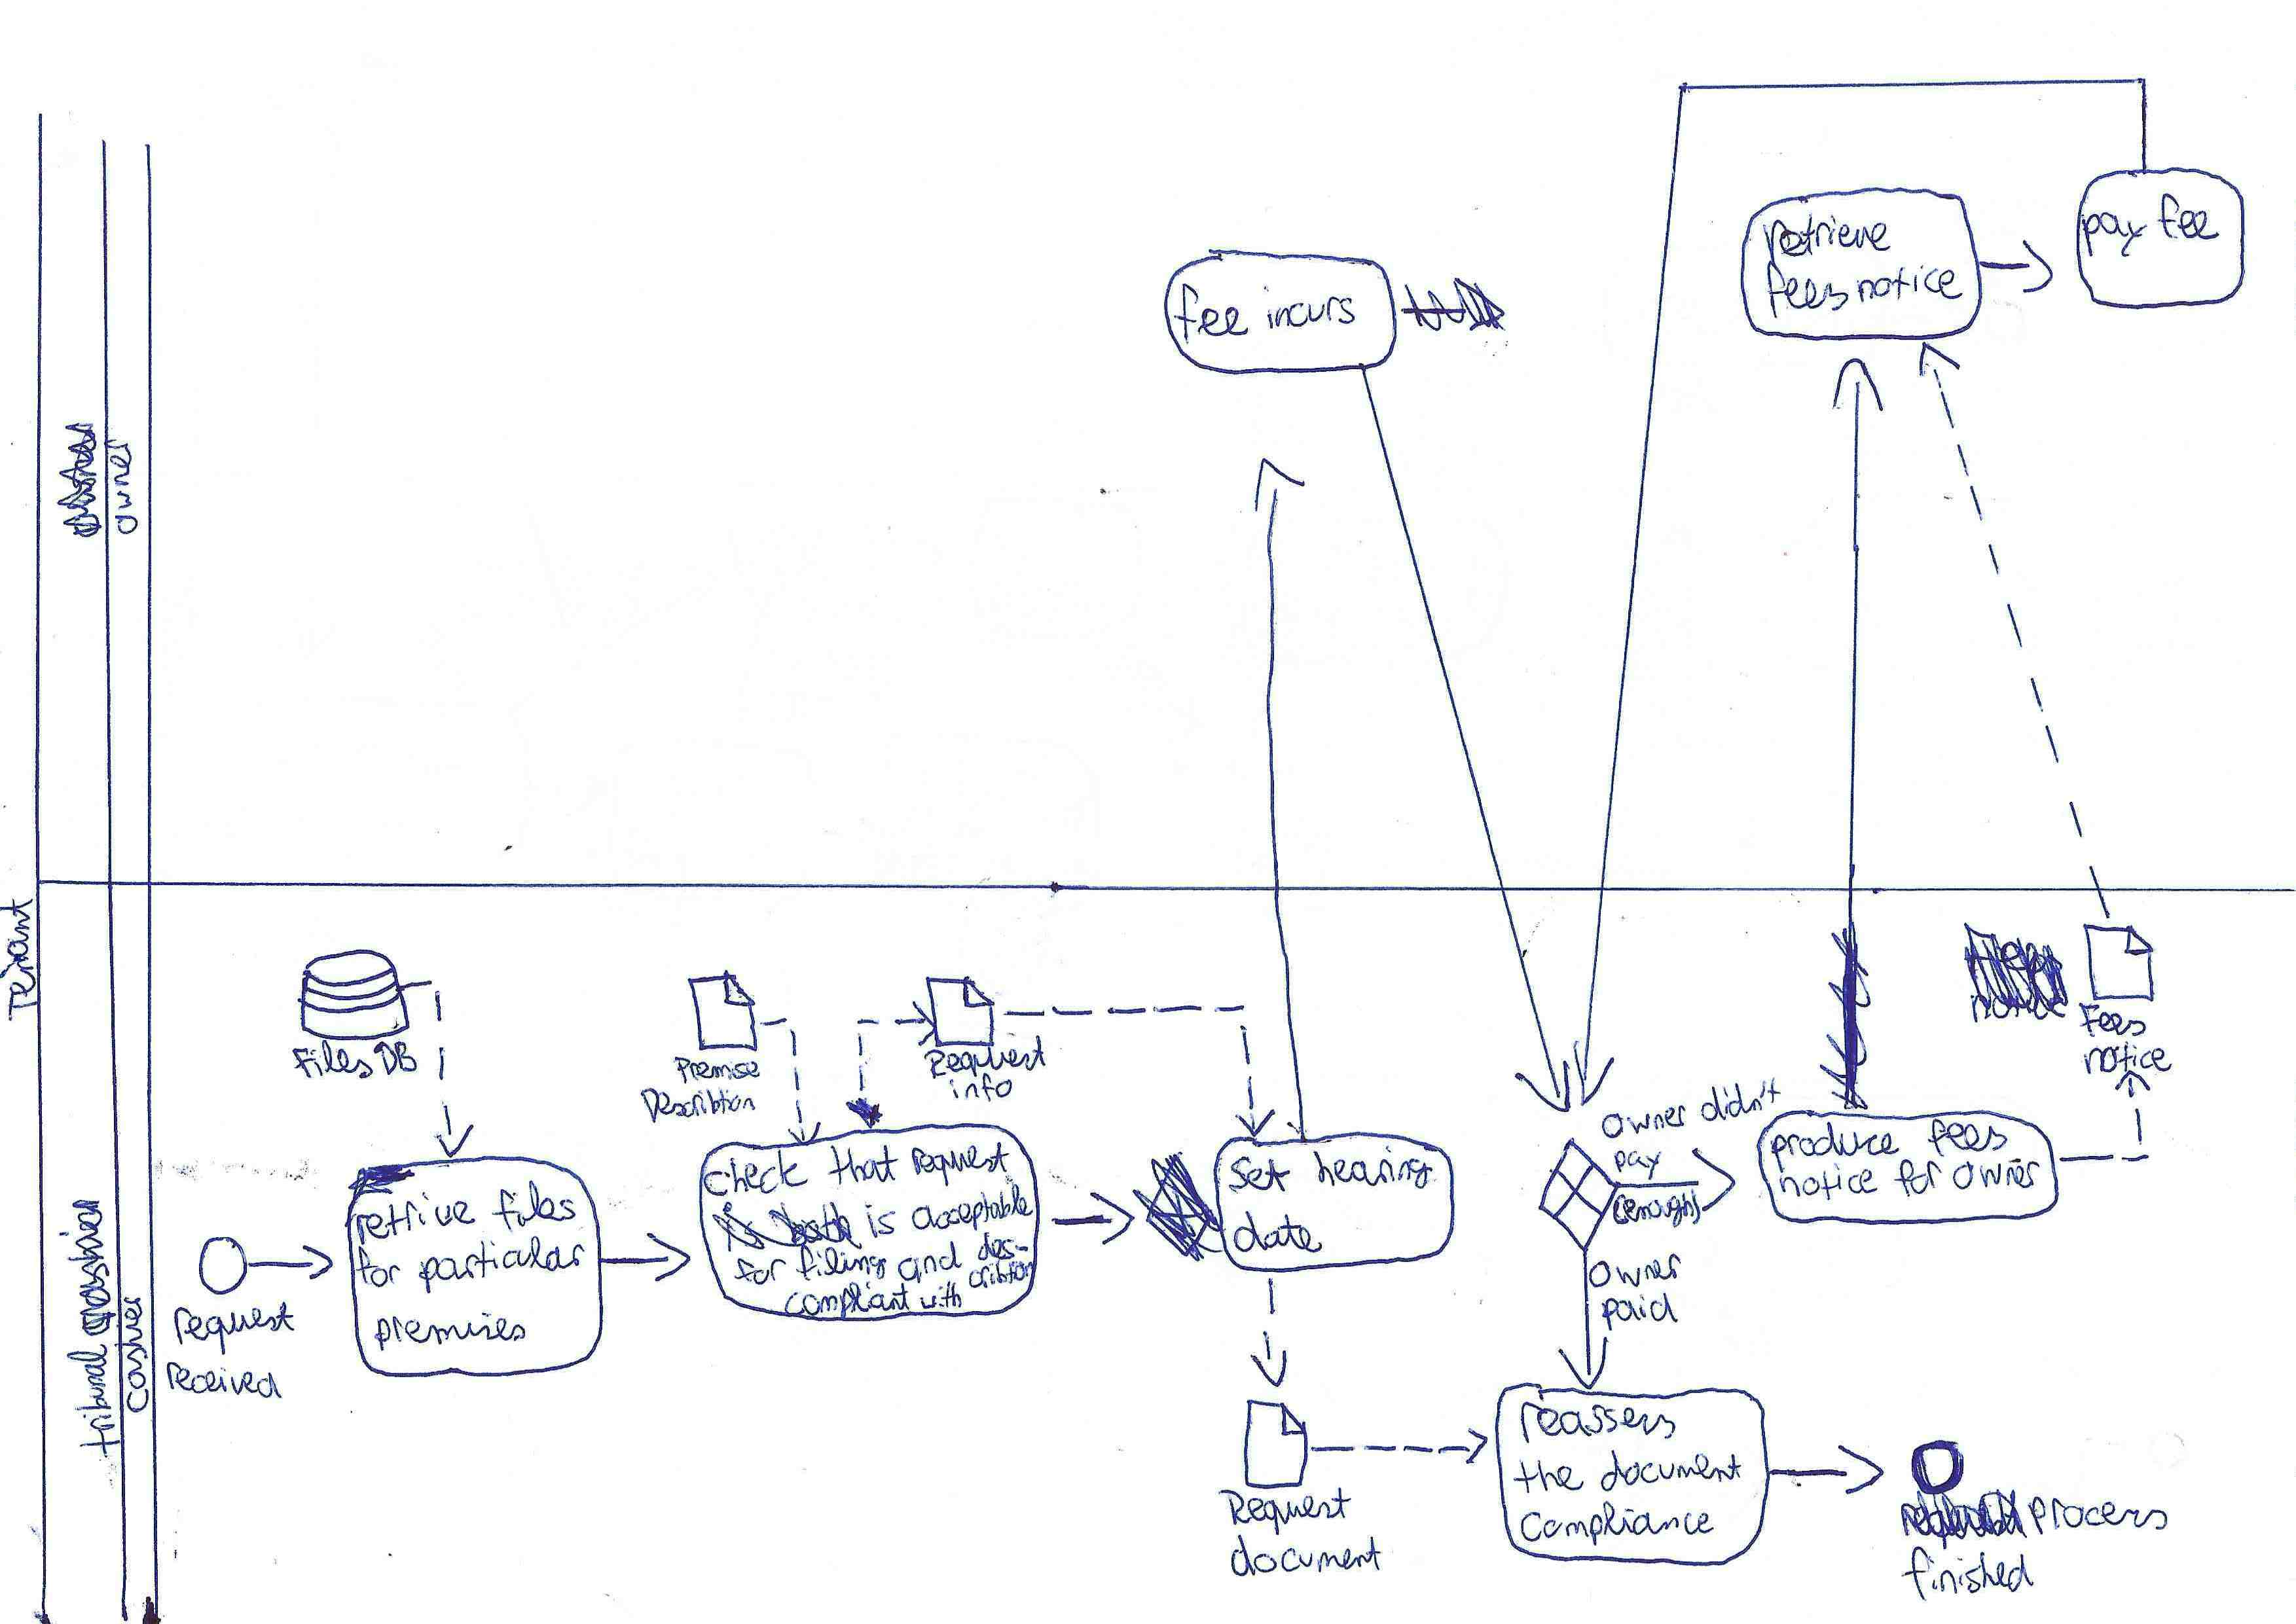(enough): (1609, 1185, 1705, 1234)
Compliance: (1515, 1496, 1719, 1552)
DB: (369, 1037, 424, 1081)
Describtion: (635, 1084, 759, 1127)
Fees: (2074, 1000, 2150, 1040)
Files: (287, 1037, 376, 1083)
Owner: (1586, 1248, 1686, 1294), (1598, 1100, 1691, 1144)
Premise: (668, 1053, 767, 1088)
Request: (1213, 1483, 1355, 1540), (919, 1030, 1051, 1084)
Set: (1224, 1153, 1296, 1199)
Tenant: (0, 895, 42, 1025)
acceptable: (907, 1179, 1037, 1236)
and: (893, 1237, 967, 1288)
cashier: (109, 1290, 153, 1418)
check: (700, 1146, 814, 1202)
compliant: (779, 1276, 914, 1323)
cribtion: (963, 1253, 1039, 1292)
date: (1229, 1206, 1327, 1258)
des-: (974, 1229, 1032, 1265)
didn't: (1698, 1072, 1784, 1127)
document: (1225, 1529, 1385, 1582), (1596, 1446, 1746, 1496)
fee: (1169, 279, 1253, 350), (2154, 188, 2224, 248)
fees: (1762, 257, 1853, 323), (1923, 1114, 2013, 1162)
files: (487, 1176, 582, 1237)
filing: (791, 1241, 891, 1287)
finished: (1897, 1541, 2038, 1606)
for: (1888, 1155, 1946, 1200), (352, 1243, 404, 1292), (731, 1255, 789, 1288)
hearing: (1310, 1141, 1438, 1195)
incurs: (1259, 281, 1359, 336)
info: (944, 1069, 1016, 1107)
is: (860, 1199, 900, 1243)
notice: (1851, 260, 1969, 308), (1774, 1160, 1883, 1206), (2078, 1037, 2178, 1081)
owner: (100, 436, 142, 540), (1948, 1155, 2045, 1195)
paid: (1596, 1288, 1682, 1338)
particular: (415, 1232, 589, 1299)
pay: (2076, 207, 2152, 262), (1610, 1144, 1667, 1185)
premises: (369, 1309, 529, 1355)
process: (2024, 1494, 2173, 1540)
produce: (1765, 1118, 1904, 1179)
reassers: (1514, 1397, 1681, 1450)
received: (162, 1359, 287, 1403)
request: (169, 1297, 301, 1360), (909, 1139, 1013, 1190)
retrieve: (1758, 207, 1897, 271)
retrive: (353, 1188, 480, 1250)
that: (821, 1141, 904, 1190)
the: (1508, 1455, 1588, 1497)
tribunal: (62, 1339, 125, 1464)
with: (916, 1278, 967, 1313)
